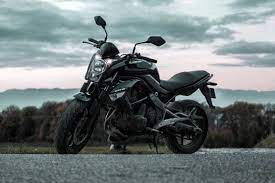bike: (57, 15, 217, 154)
